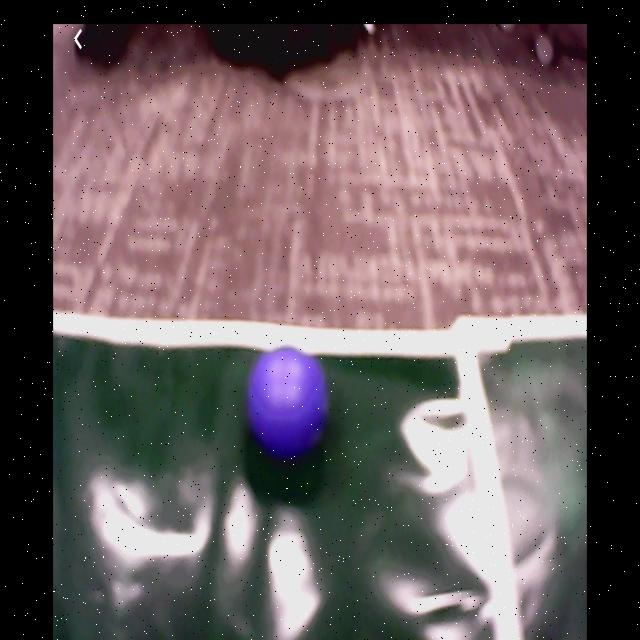ball: (252, 339, 326, 446)
